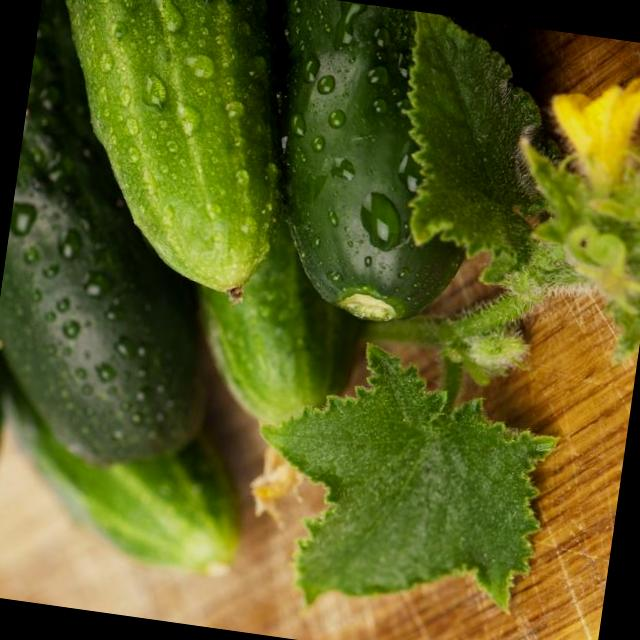Cucumber: (0, 0, 262, 479), (226, 0, 533, 335), (179, 216, 367, 437)
